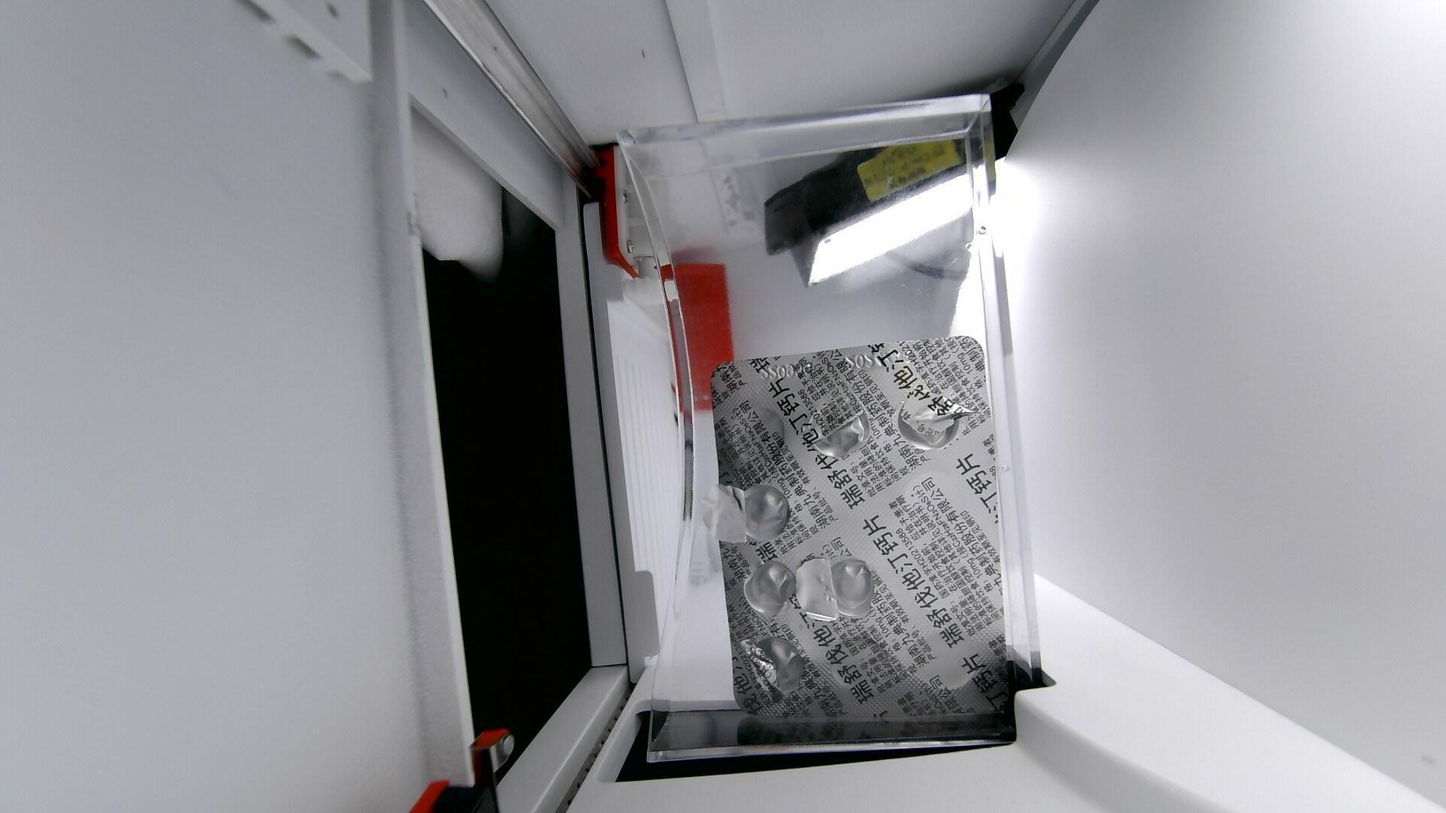No Pill Back: (806, 550, 885, 626), (896, 379, 970, 455), (737, 627, 811, 703), (803, 385, 874, 455), (733, 483, 789, 543), (741, 556, 795, 615)
Pill Back: (891, 464, 981, 533), (904, 544, 990, 610), (728, 399, 801, 467), (914, 620, 987, 685), (822, 635, 898, 696)
